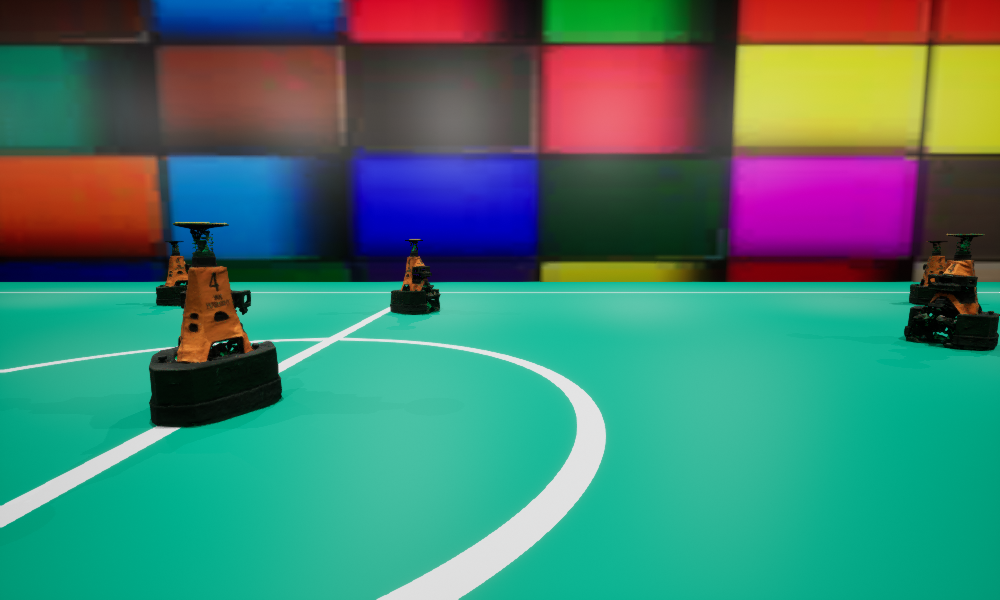0 orange robot TechUnited: (149, 222, 281, 426), (904, 233, 999, 349), (390, 239, 440, 314), (909, 241, 947, 305), (156, 241, 191, 305)
